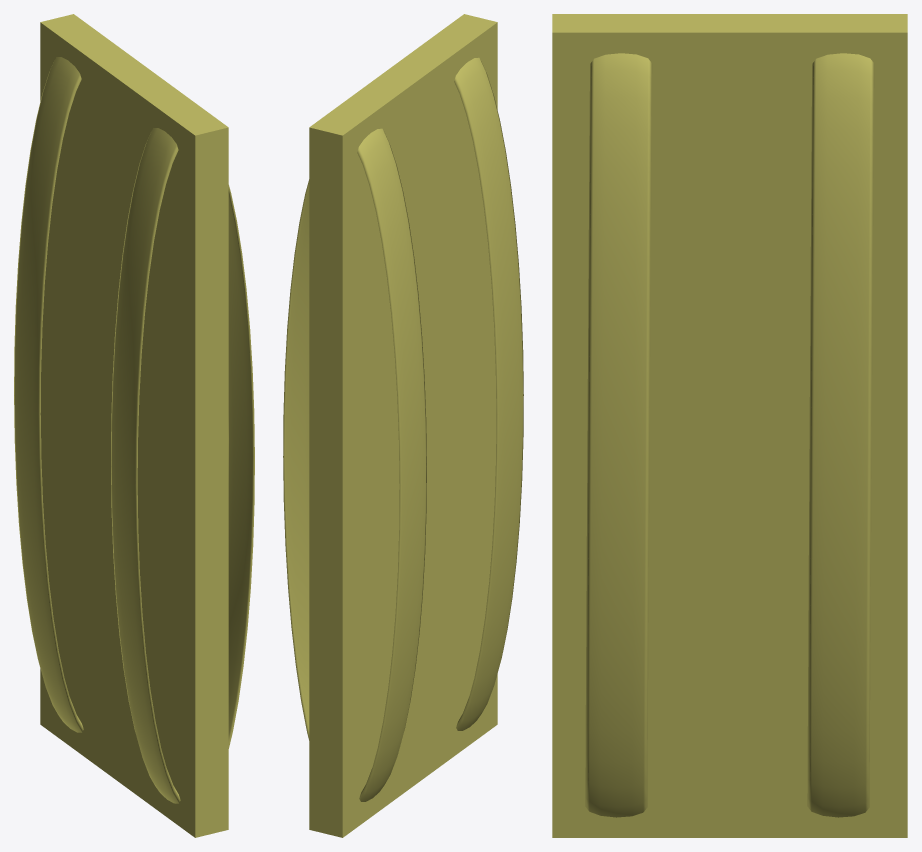
File: PickableBrick.glb
The picture shows the model from 3 angles, left to right: view 1: azimuth 30°, elevation 25°; view 2: azimuth 150°, elevation 25°; view 3: azimuth 270°, elevation 25°; orthographic projection. The views are drawn at different scales.
Parts seen in each view (by area): view 1: Cube, Torus.002, Torus.001; view 2: Cube, Torus.001, Torus.002; view 3: Cube, Torus.002, Torus.001.
Part boxes in pixels (x1,y1,x2,y2): Cube: [40, 14, 228, 837]; Torus.002: [111, 128, 254, 803]; Torus.001: [14, 57, 83, 732]; Cube: [309, 14, 497, 837]; Torus.001: [283, 128, 426, 801]; Torus.002: [454, 57, 523, 730]; Cube: [552, 14, 907, 837]; Torus.002: [585, 53, 652, 817]; Torus.001: [807, 53, 874, 817].
Size of the model in its own units: 0.7144 by 4 by 1.6.
